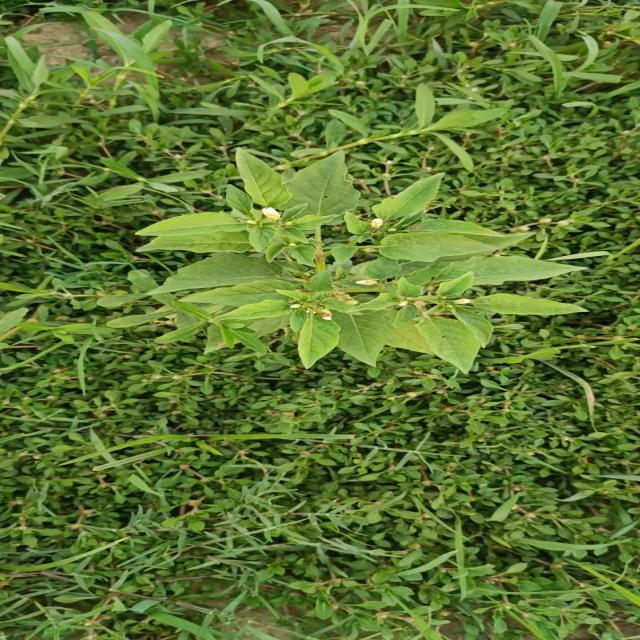plant: (135, 148, 586, 373)
